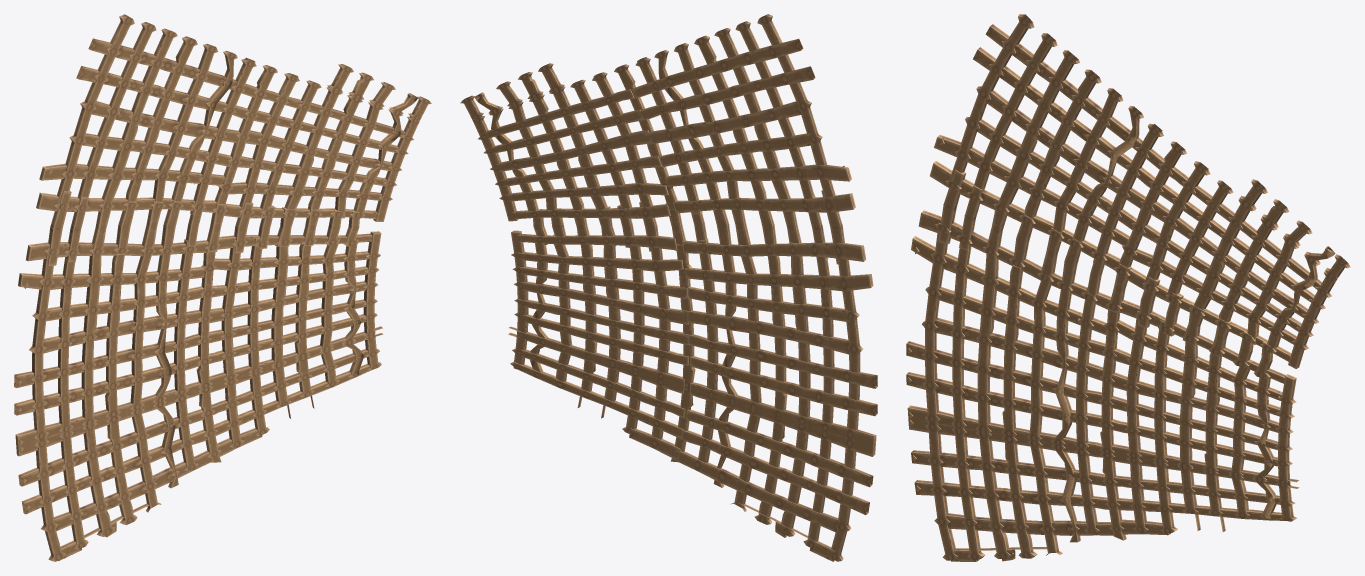
File: Grate_Circle.fbx
The picture shows the model from 3 angles, left to right: view 1: azimuth 30°, elevation 25°; view 2: azimuth 150°, elevation 25°; view 3: azimuth 330°, elevation 25°; orthographic projection. The views are drawn at different scales.
Visible parts, largest first — view 1: Grate_Circle; view 2: Grate_Circle; view 3: Grate_Circle.
Boxes of the visible parts, x1,y1,x2,y2 form: Grate_Circle: [14, 14, 431, 561]; Grate_Circle: [460, 14, 877, 561]; Grate_Circle: [906, 14, 1350, 561].
Size of the model in its own units: 1159 by 1412 by 19.05.
1 material, 1 textured.
